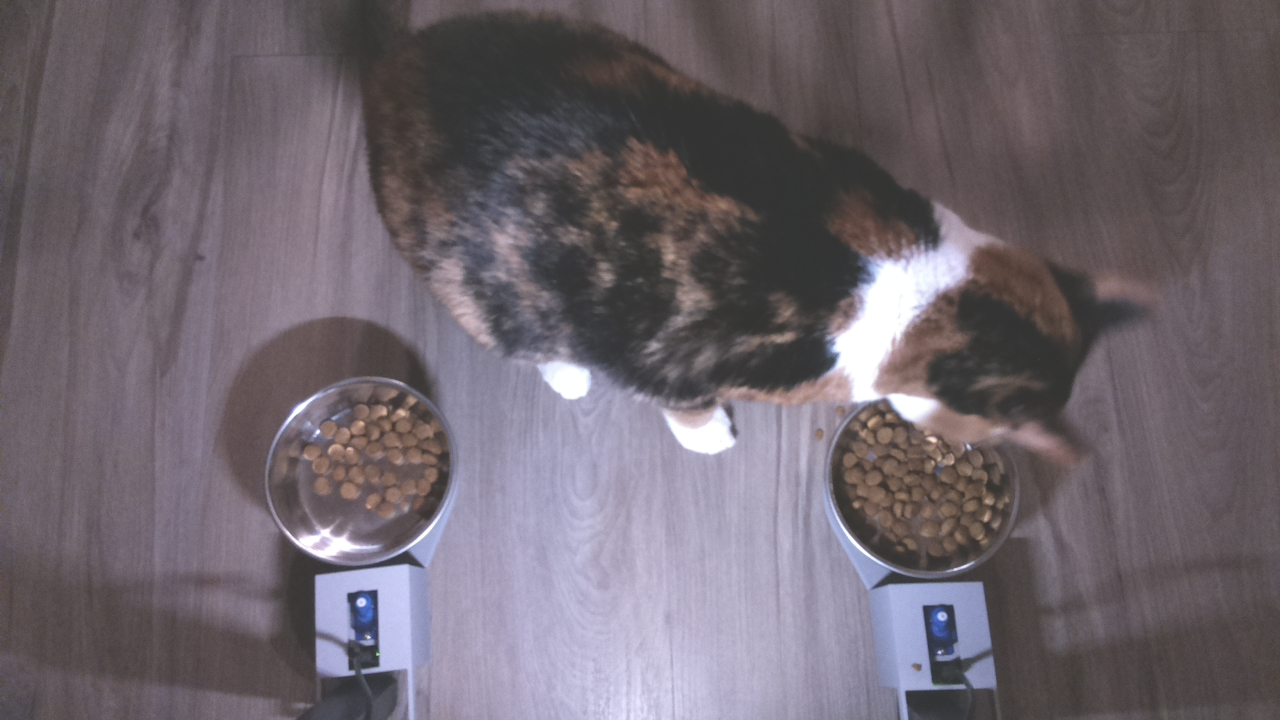bella: (848, 168, 1172, 484)
open_bowl: (258, 368, 464, 573), (826, 394, 1025, 576)
